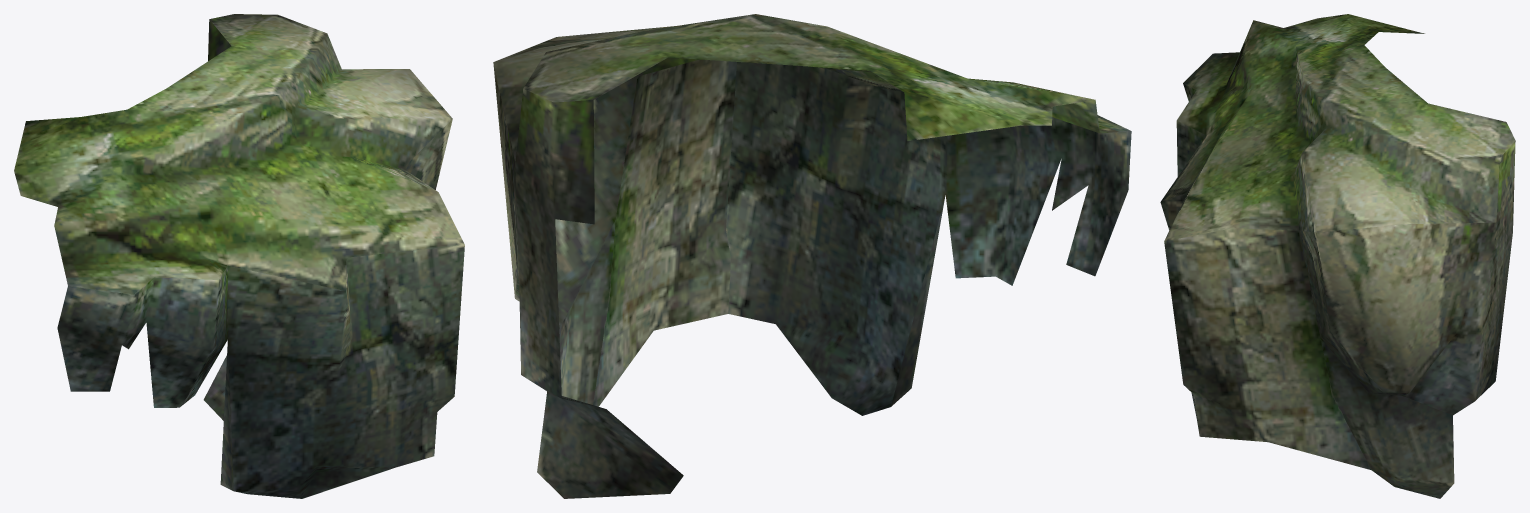
Rendered from S_Rock_Green047_1060_8.fbx.
3 renders of one model, left to right at view 1: azimuth 30°, elevation 25°; view 2: azimuth 150°, elevation 25°; view 3: azimuth 270°, elevation 25°, orthographic. The views are drawn at different scales.
Parts seen in each view (by area): view 1: S_Rock_Green047_1060_8; view 2: S_Rock_Green047_1060_8; view 3: S_Rock_Green047_1060_8.
Boxes of the visible parts, x1=… form: S_Rock_Green047_1060_8: x1=14, y1=14, x2=464, y2=498; S_Rock_Green047_1060_8: x1=493, y1=14, x2=1131, y2=498; S_Rock_Green047_1060_8: x1=1160, y1=14, x2=1515, y2=498.
Size of the model in its own units: 971 by 820 by 735.
Materials: 1 (1 with a texture image).
